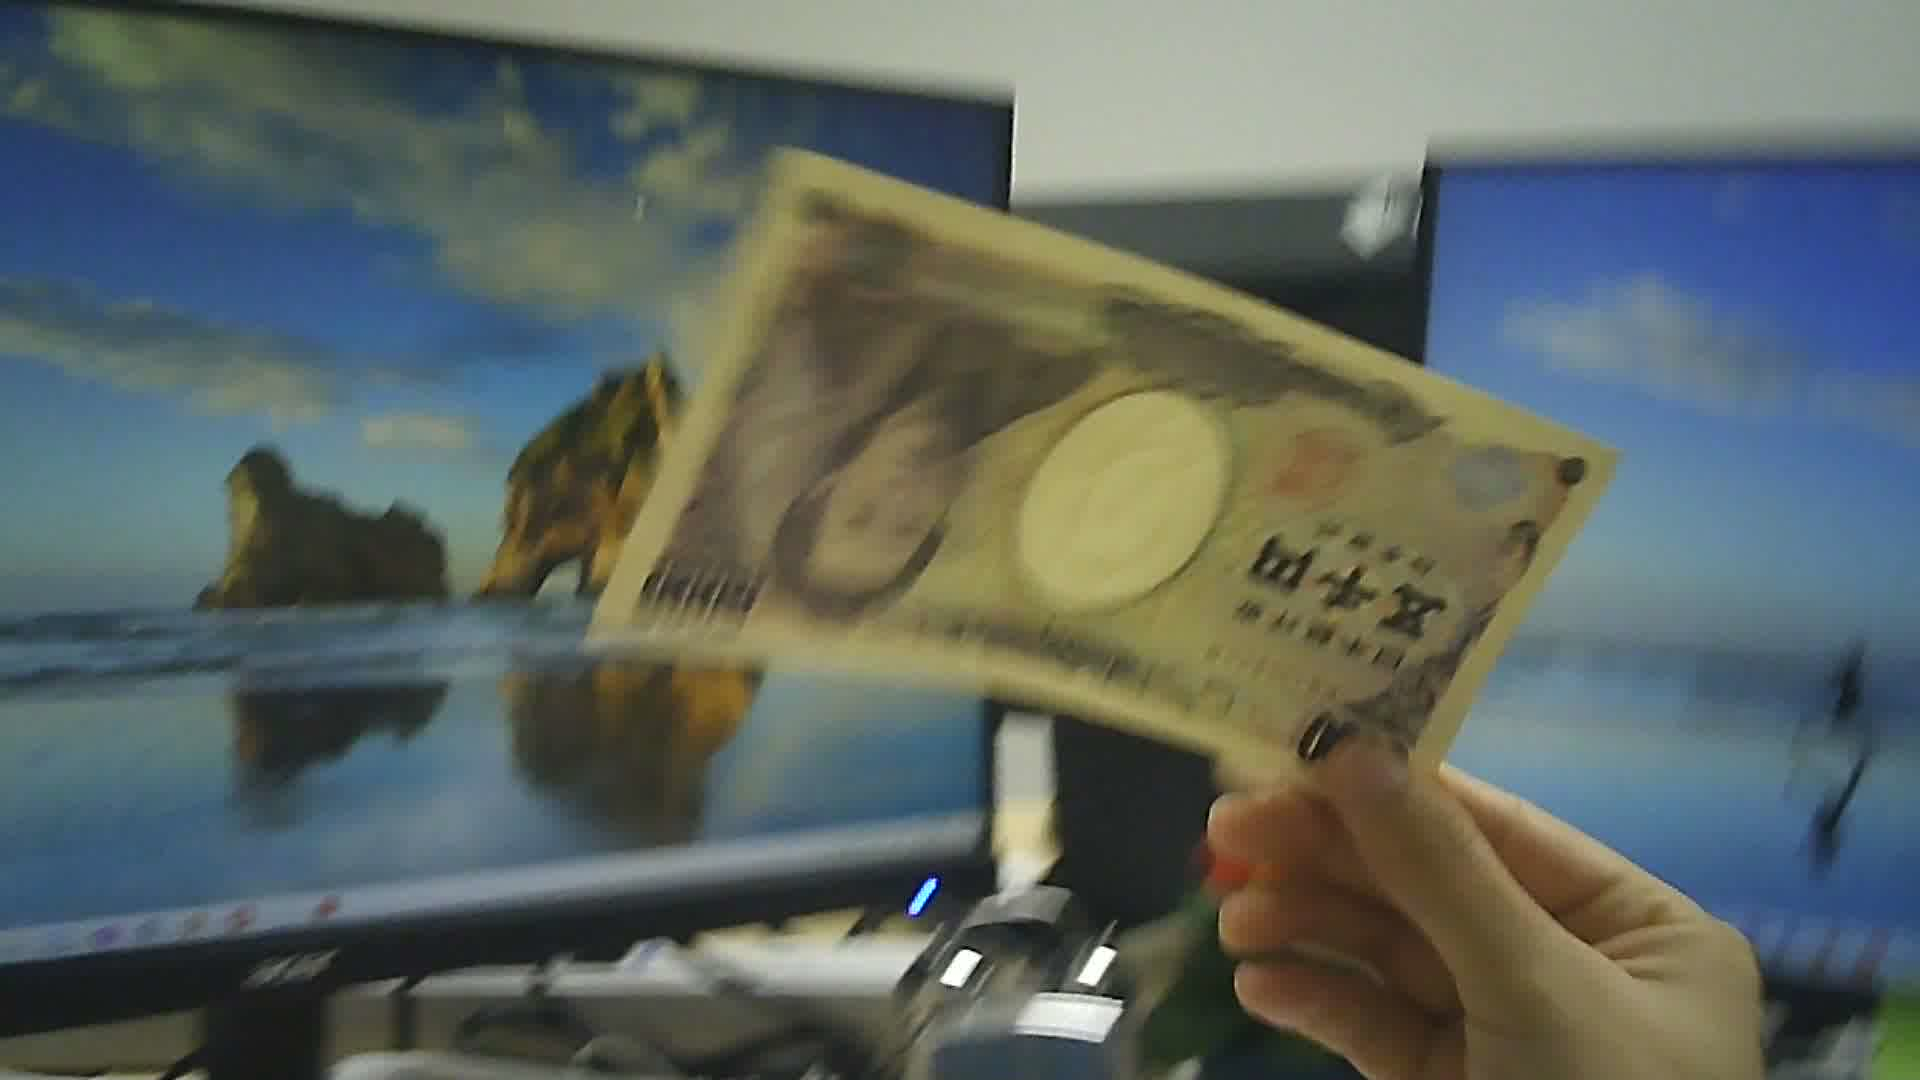5,000 Yen: (618, 160, 1625, 824)
